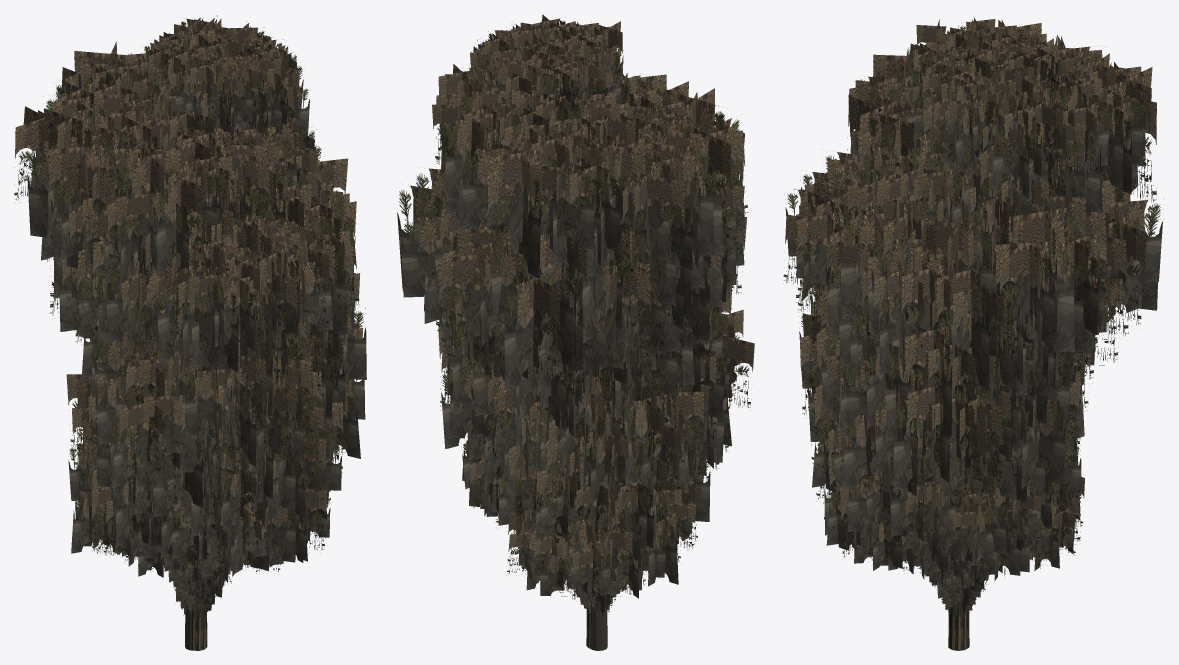
File: pine_tree_01_lod2.glb
3 renders of one model, left to right at view 1: azimuth 30°, elevation 25°; view 2: azimuth 150°, elevation 25°; view 3: azimuth 270°, elevation 25°, orthographic. The views are drawn at different scales.
Visible parts, largest first — view 1: pine_tree_01_a_LOD0_LOD2, pine_tree_01_c_LOD0_LOD2, pine_tree_01_b_LOD0_LOD2; view 2: pine_tree_01_a_LOD0_LOD2, pine_tree_01_c_LOD0_LOD2, pine_tree_01_b_LOD0_LOD2; view 3: pine_tree_01_a_LOD0_LOD2, pine_tree_01_c_LOD0_LOD2, pine_tree_01_b_LOD0_LOD2.
Part boxes in pixels (x1,y1,x2,y2): pine_tree_01_a_LOD0_LOD2: [14, 15, 356, 650]; pine_tree_01_c_LOD0_LOD2: [66, 128, 366, 650]; pine_tree_01_b_LOD0_LOD2: [53, 229, 365, 619]; pine_tree_01_a_LOD0_LOD2: [397, 14, 748, 648]; pine_tree_01_c_LOD0_LOD2: [439, 157, 754, 650]; pine_tree_01_b_LOD0_LOD2: [438, 231, 736, 616]; pine_tree_01_a_LOD0_LOD2: [810, 18, 1162, 650]; pine_tree_01_c_LOD0_LOD2: [783, 146, 1099, 646]; pine_tree_01_b_LOD0_LOD2: [802, 182, 1122, 613].
Bounding box in the file's own units: 10.77 × 20.66 × 11.51.
4 materials, 4 textured.
